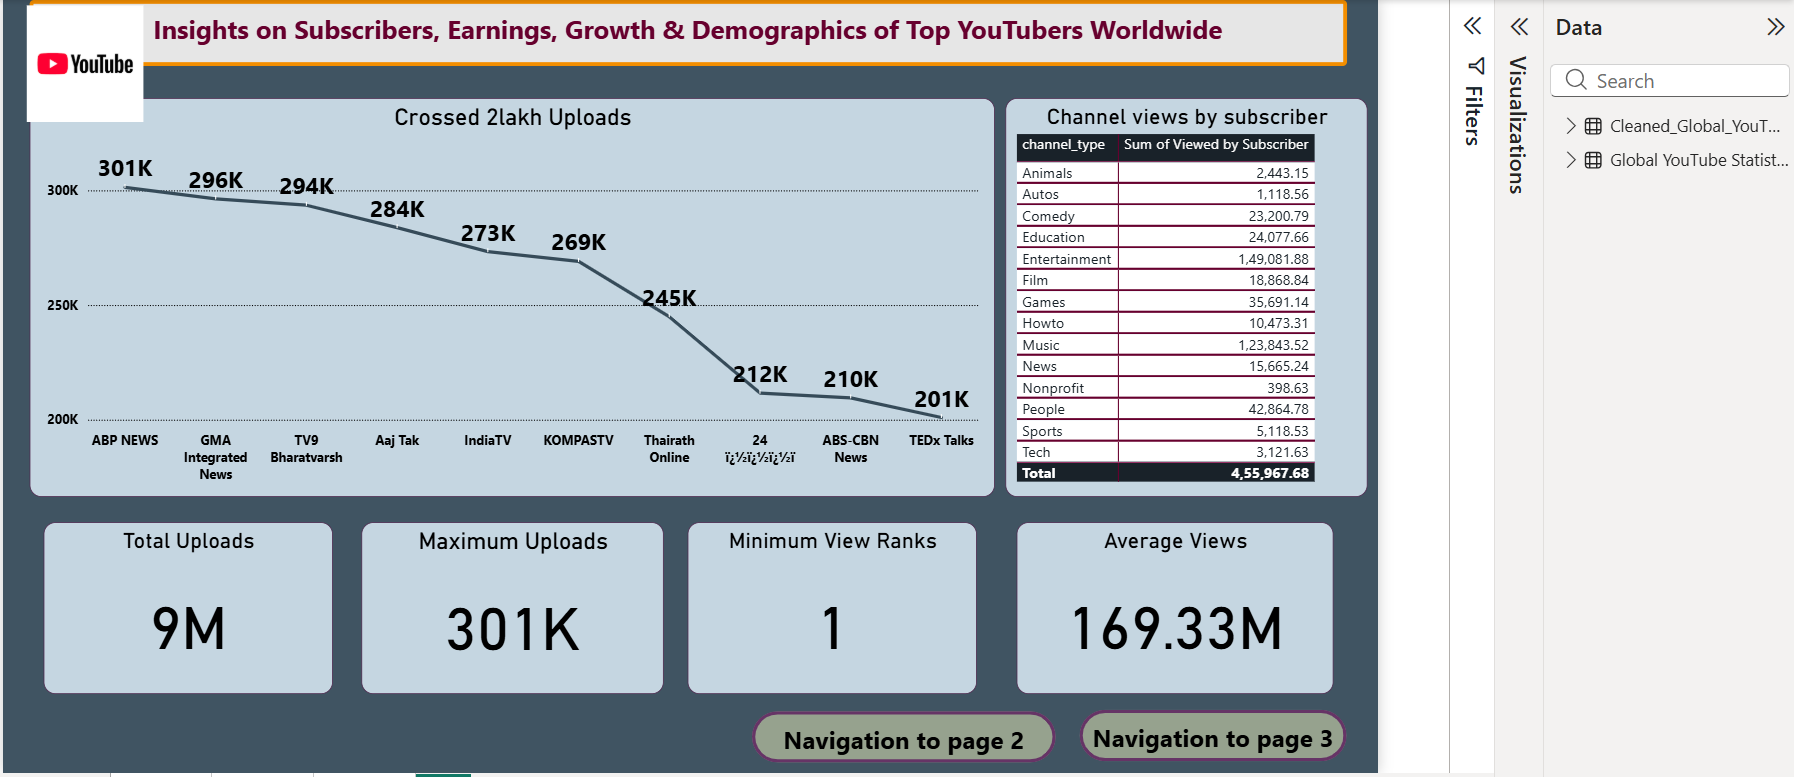

This screenshot's page, from the dashboard's own definition file:
{"tool":"powerbi","page":{"name":"Page1","canvas":[1280,720],"ordinal":0},"visuals":[{"type":"card","title":"Maximum Uploads","fields":{"Values":["Max(Global YouTube Statistics.uploads)"]},"box":[333.2,486.2,281.3,159.8],"z":0},{"type":"card","title":"Minimum View Ranks","fields":{"Values":["Min(Global YouTube Statistics.video_views_rank)"]},"box":[637.8,486.2,269,159.8],"z":1000},{"type":"textbox","box":[25,0,1226.3,61.6],"z":2000},{"type":"card","title":"Average Views","fields":{"Values":["Avg(Cleaned_Global_YouTube_Statistics.video_views_for_the_last_30_days)"]},"box":[943.7,486.2,295,159.8],"z":3000},{"type":"lineChart","title":"Crossed 2lakh Uploads","fields":{"Category":["Cleaned_Global_YouTube_Statistics.title"],"Y":["Max(Cleaned_Global_YouTube_Statistics.uploads)"]},"box":[24.6,91.5,898.6,371.5],"z":4000},{"type":"card","title":"Total Uploads","fields":{"Values":["Cleaned_Global_YouTube_Statistics.Total Uploads"]},"box":[38.2,486.2,269,159.8],"z":5000},{"type":"tableEx","title":"Channel views by subscriber","fields":{"Values":["Cleaned_Global_YouTube_Statistics.channel_type","Sum(Cleaned_Global_YouTube_Statistics.Viewed by Subscriber)"]},"box":[932.7,91.5,337.3,371.5],"z":6000},{"type":"actionButton","box":[1002.4,661,248.5,47.8],"z":7000},{"type":"actionButton","box":[697.8,662.3,282.7,47.8],"z":8000},{"type":"image","box":[0,0,153,118.8],"z":9000}]}

Visuals, with their boxes on the page's 1280x720 design canvas (x1, y1, x2, y2). These are canvas units, not pixel positions in the 1794x777 screenshot, which may show the page scaled, cropped or inside an application window:
"Maximum Uploads" card: 333,486,614,646
"Minimum View Ranks" card: 638,486,907,646
textbox: 25,0,1251,62
"Average Views" card: 944,486,1239,646
"Crossed 2lakh Uploads" lineChart: 25,92,923,463
"Total Uploads" card: 38,486,307,646
"Channel views by subscriber" tableEx: 933,92,1270,463
actionButton: 1002,661,1251,709
actionButton: 698,662,980,710
image: 0,0,153,119
